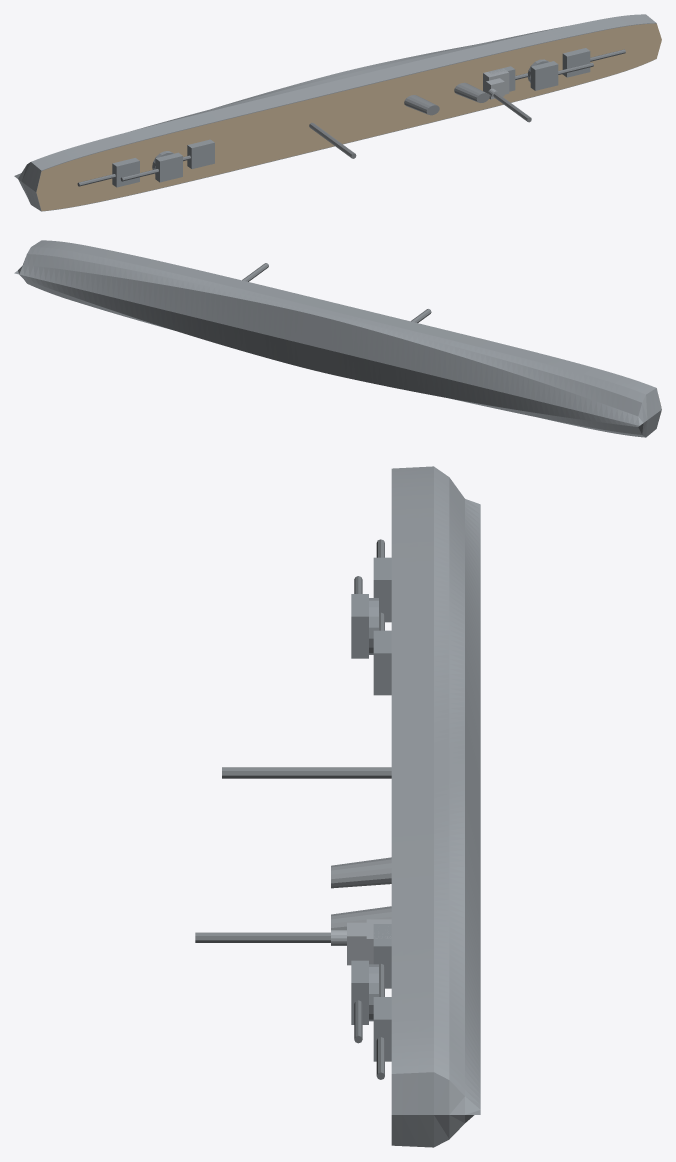
File: 古鷹型.glb
The picture shows the model from 3 angles, top to bottom: view 1: azimuth 30°, elevation 25°; view 2: azimuth 150°, elevation 25°; view 3: azimuth 270°, elevation 25°; orthographic projection. The views are drawn at different scales.
Visible parts, largest first — view 1: 古鷹型; view 2: 古鷹型; view 3: 古鷹型.
Part boxes in pixels (bbox=[...]): 古鷹型: bbox=[14, 14, 661, 211]; 古鷹型: bbox=[14, 240, 661, 437]; 古鷹型: bbox=[195, 466, 480, 1147].
Bounding box in the file's own units: 177 × 15.3 × 34.9.
